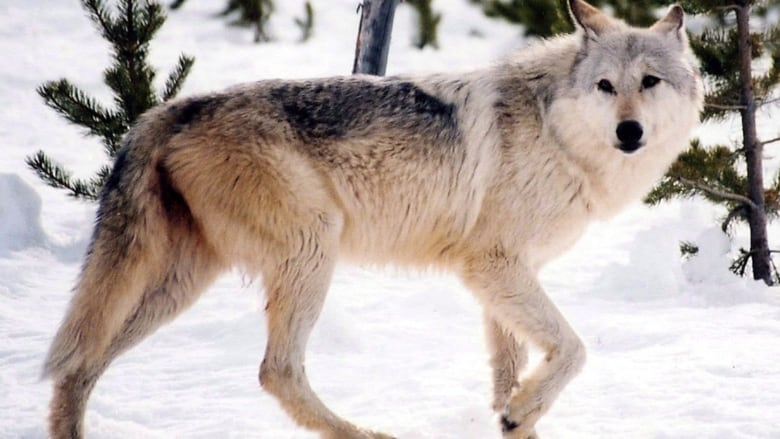wolf: (96, 30, 716, 439)
